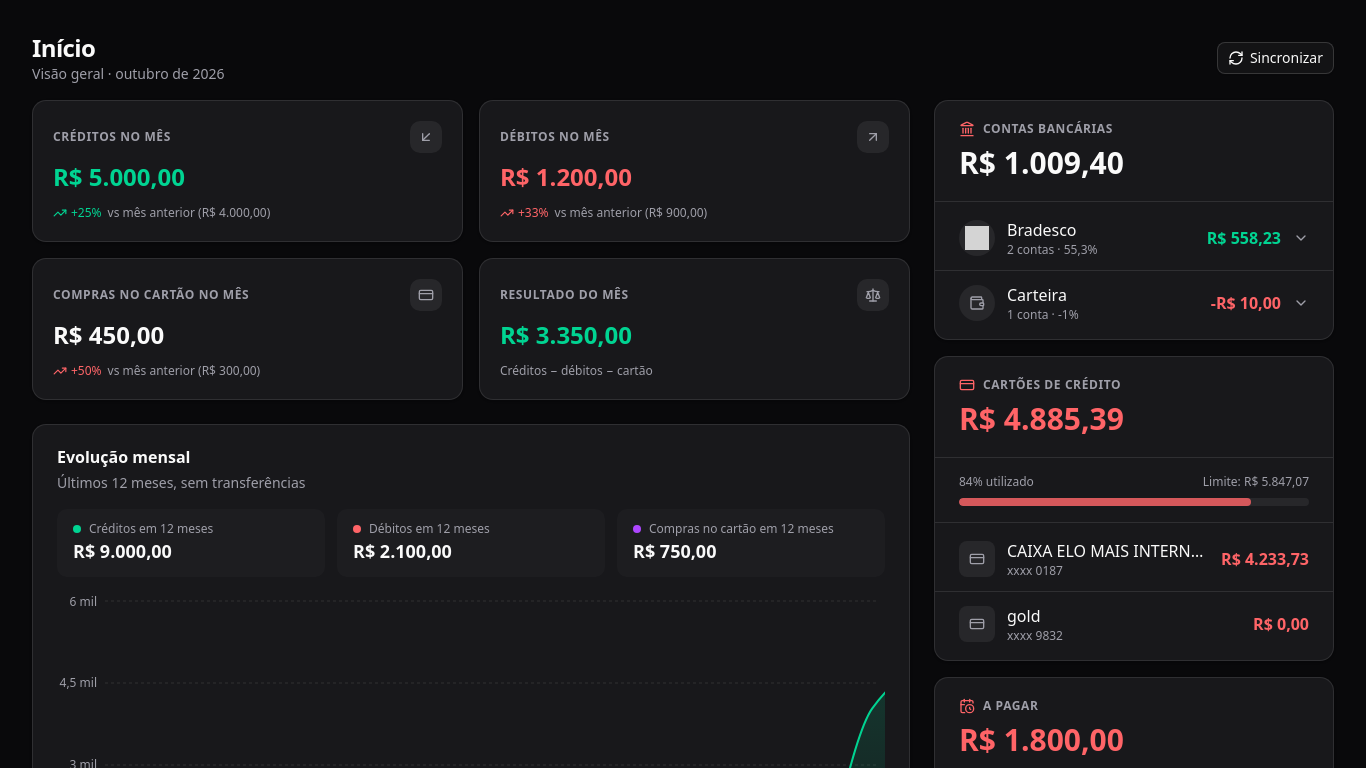
Scenario: Home › shows bank accounts grouped by institution, with share and wallet
This screenshot has width=1366, height=768.
Check: the text "R$ 1.009,40" is shown, box [959, 142, 1124, 183]
Check: the text "2 contas · 55,3%" is shown, box [1007, 241, 1098, 258]
Click the text "Bradesco": x=1042, y=230 [1007, 219, 1077, 241]
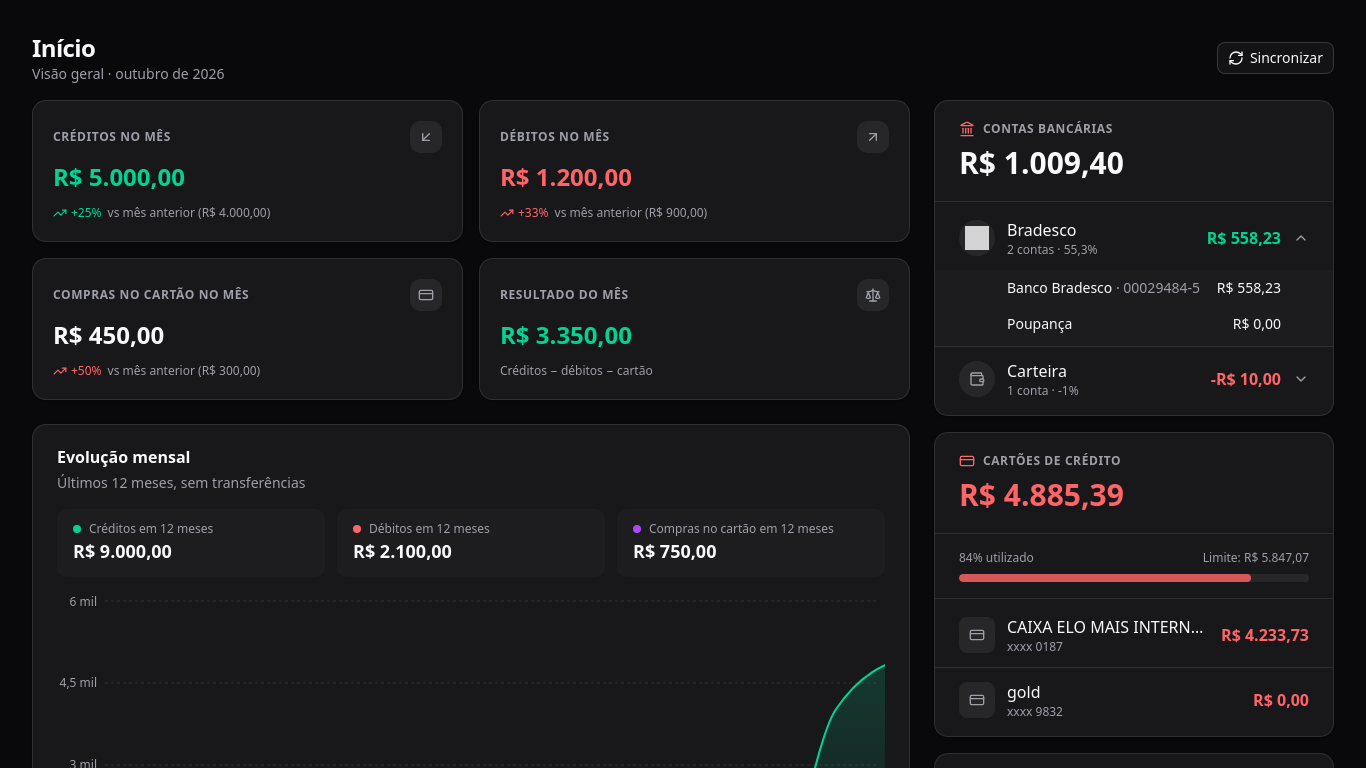
Check: the text "Banco Bradesco" is shown, box [1007, 278, 1112, 297]
